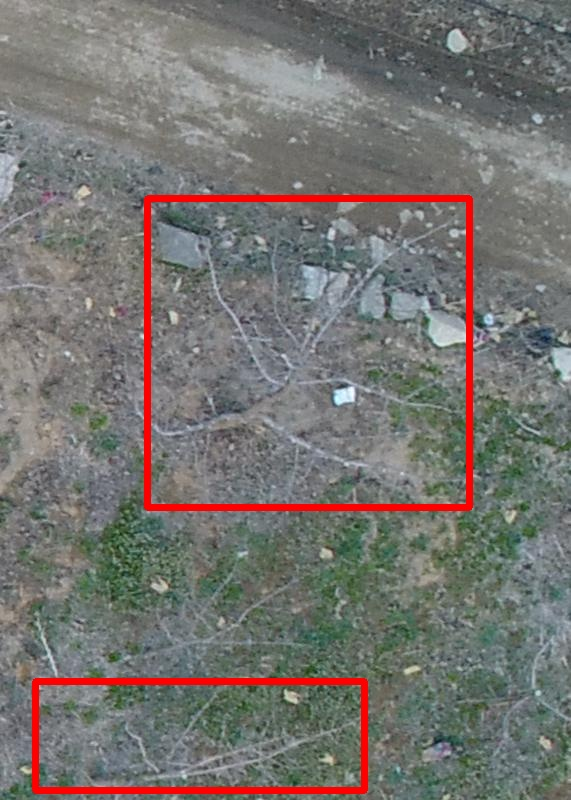apple: (147, 198, 469, 507), (35, 681, 364, 790)
